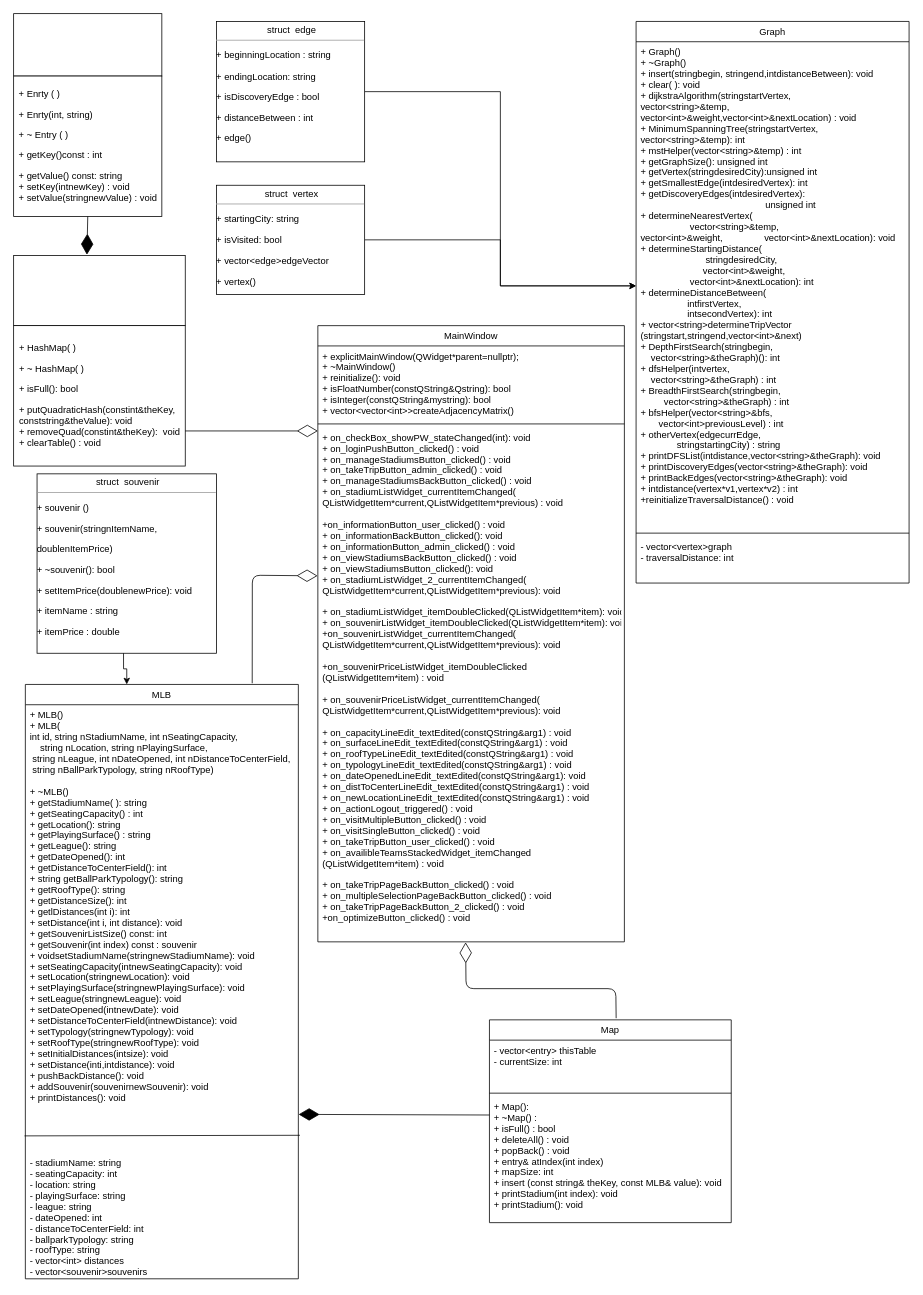
This 923x1295 diagram has some shape labels left out. Here are the shapes that lost their labels. From the top down, the centre of each, then its label:
At [87,44]: "Entry - value: string - key: int".
At [99,290]: "HashMap - Entry ** table - currentSize : int".
